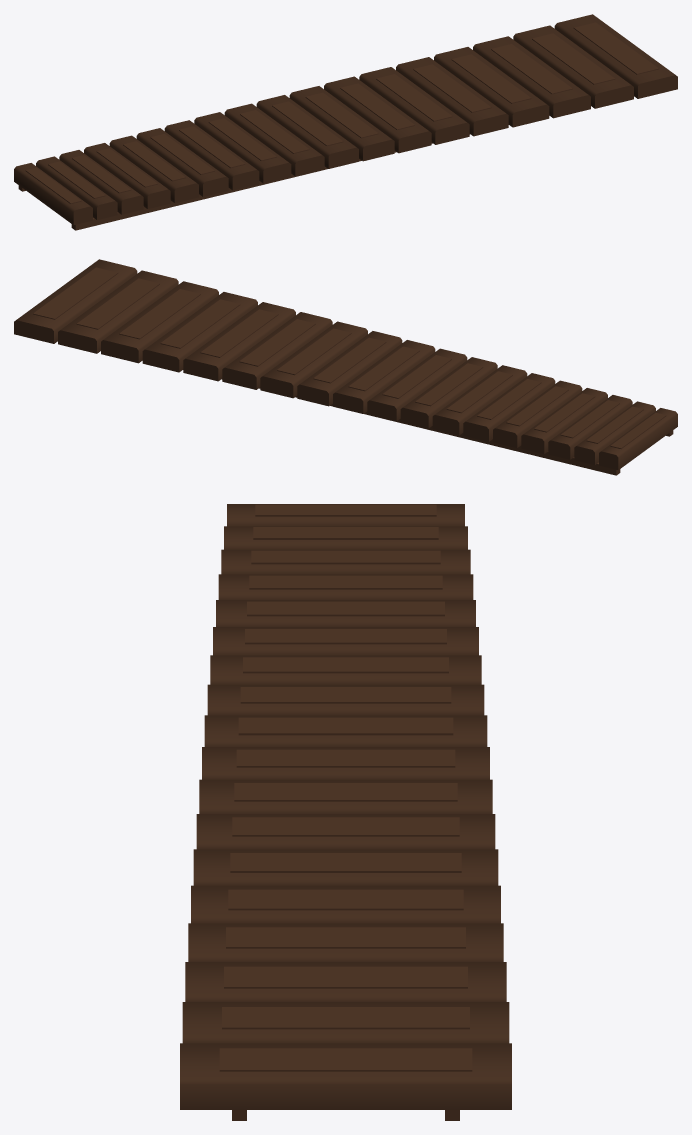
The model's file is gamelar_gambang.fbx.
The picture shows the model from 3 angles, top to bottom: view 1: azimuth 30°, elevation 25°; view 2: azimuth 150°, elevation 25°; view 3: azimuth 270°, elevation 25°; orthographic projection. The views are drawn at different scales.
Parts seen in each view (by area): view 1: Gambang_Mesh; view 2: Gambang_Mesh; view 3: Gambang_Mesh.
Part boxes in pixels (x1,y1,x2,y2): Gambang_Mesh: (14, 14, 677, 230); Gambang_Mesh: (14, 259, 677, 475); Gambang_Mesh: (180, 504, 511, 1120).
Size of the model in its own units: 1.09 by 0.04 by 0.265.
